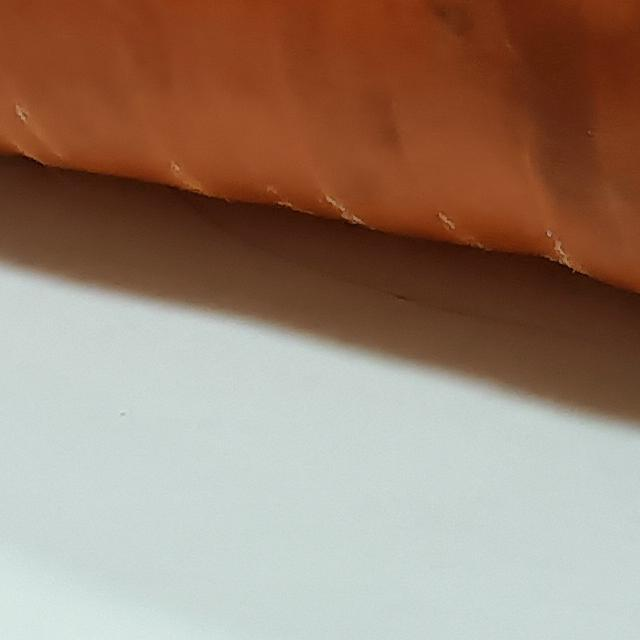carrot: (1, 1, 640, 351)
